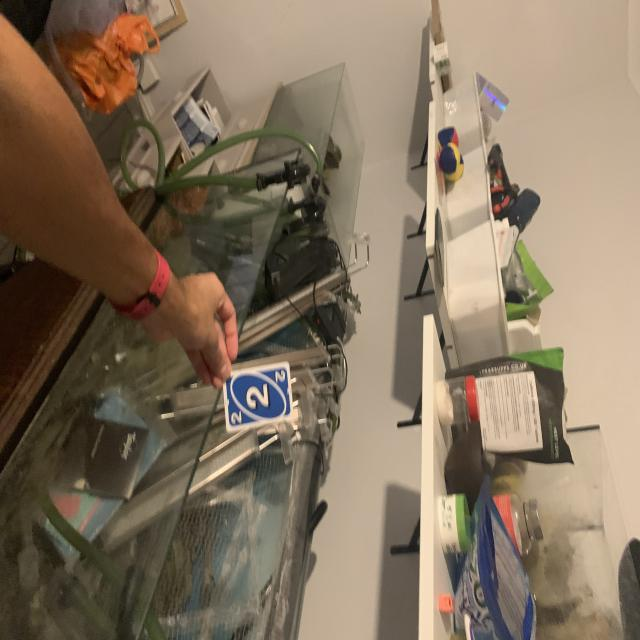lblue-2: (271, 368, 287, 385)
